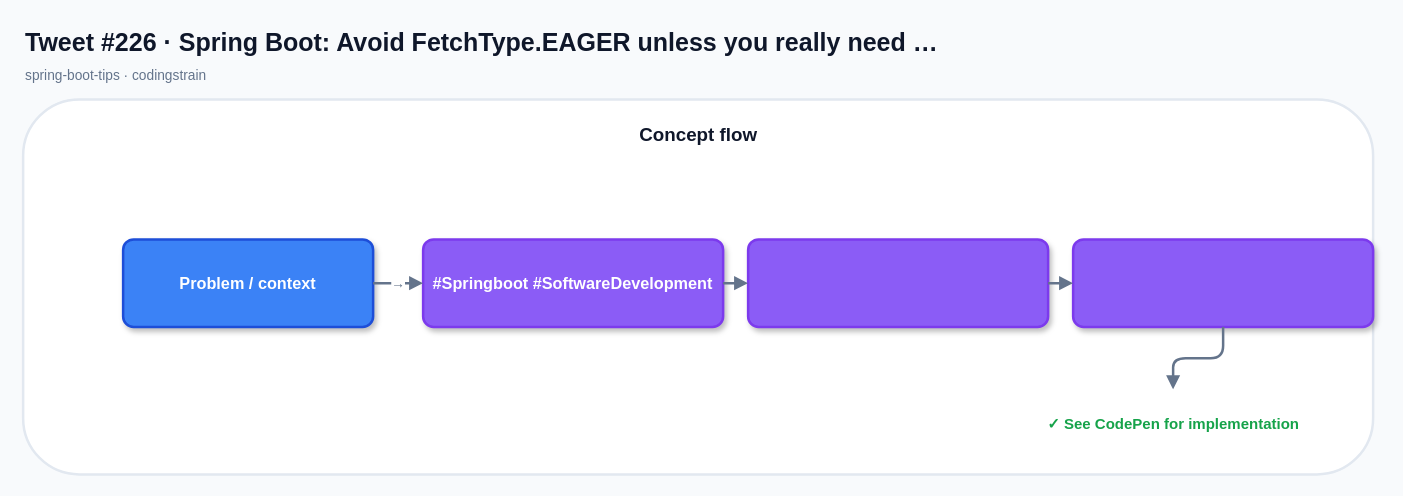
Image size: 1403x496. Some labels were removed from this diagram. Here are the shapes that lost their labels. From the top down, the centre of each, then its label:
the point at 898,284: Runnable sample: `spring-boot-tips`
the point at 1223,284: Architecture diagram + Carbon CodePen below
